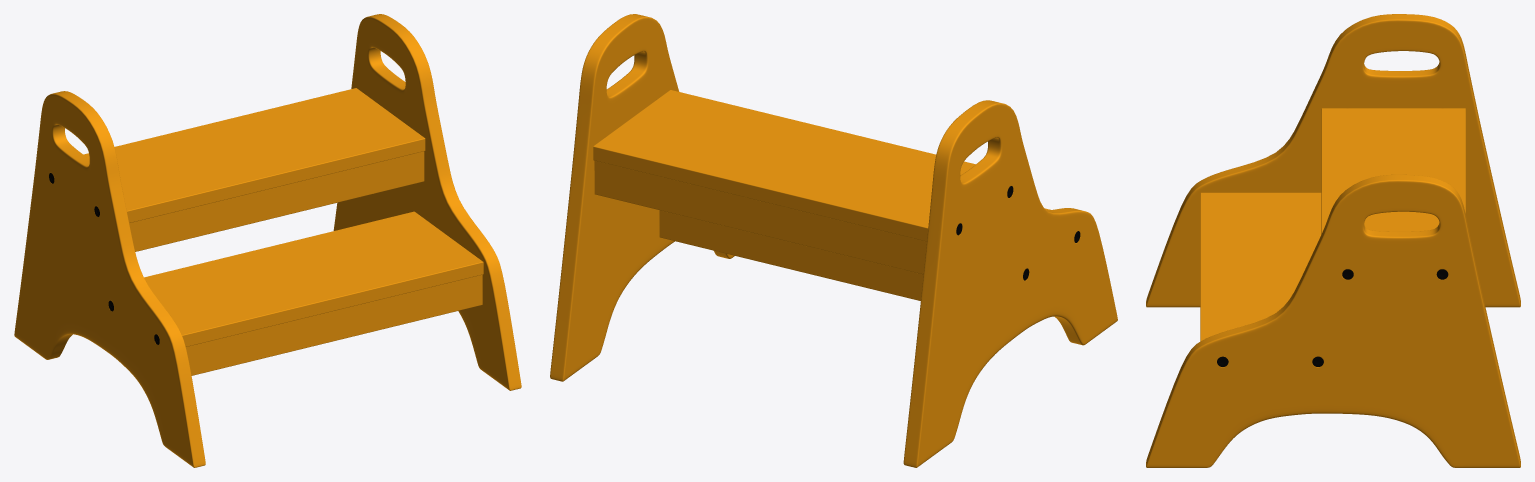
The model's file is childstool.FBX.
The picture shows the model from 3 angles, left to right: view 1: azimuth 30°, elevation 25°; view 2: azimuth 150°, elevation 25°; view 3: azimuth 270°, elevation 25°; orthographic projection. The views are drawn at different scales.
Parts seen in each view (by area): view 1: Trogen Children's Step Stool_04, Trogen Children's Step Stool_03, Trogen Children's Step Stool_02; view 2: Trogen Children's Step Stool_04, Trogen Children's Step Stool_02, Trogen Children's Step Stool_03; view 3: Trogen Children's Step Stool_04, Trogen Children's Step Stool_03, Trogen Children's Step Stool_02.
Boxes of the visible parts, bbox=[...] form: Trogen Children's Step Stool_04: bbox=[14, 14, 521, 467]; Trogen Children's Step Stool_03: bbox=[144, 211, 483, 375]; Trogen Children's Step Stool_02: bbox=[83, 88, 425, 251]; Trogen Children's Step Stool_04: bbox=[550, 14, 1117, 467]; Trogen Children's Step Stool_02: bbox=[593, 90, 975, 274]; Trogen Children's Step Stool_03: bbox=[659, 208, 1050, 300]; Trogen Children's Step Stool_04: bbox=[1146, 14, 1520, 467]; Trogen Children's Step Stool_03: bbox=[1200, 192, 1321, 367]; Trogen Children's Step Stool_02: bbox=[1321, 108, 1465, 278].
Size of the model in its own units: 39.97 by 32.14 by 37.9.
